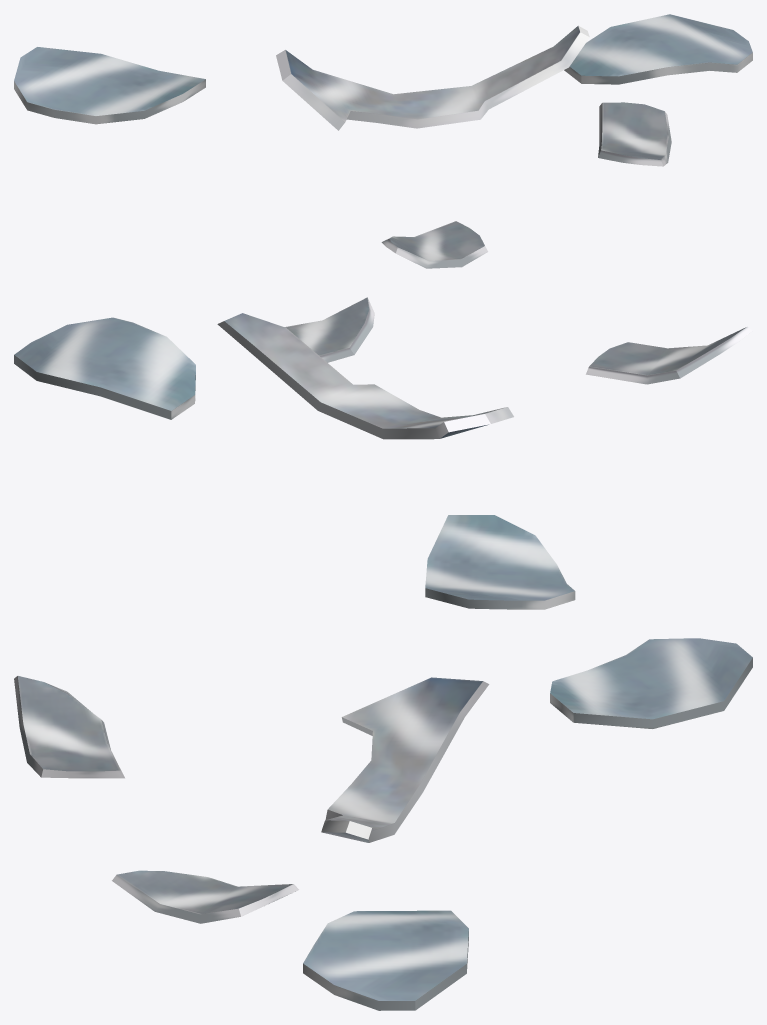
Rendered from CeSuo_01_bolisuipian_01.FBX.
3 renders of one model, top to bottom at view 1: azimuth 30°, elevation 25°; view 2: azimuth 150°, elevation 25°; view 3: azimuth 270°, elevation 25°, orthographic. The views are drawn at different scales.
Visible parts, largest first — view 1: CeSuo_01_bolisuipian_01; view 2: CeSuo_01_bolisuipian_01; view 3: CeSuo_01_bolisuipian_01.
Boxes of the visible parts, bbox=[...] form: CeSuo_01_bolisuipian_01: bbox=[14, 14, 752, 268]; CeSuo_01_bolisuipian_01: bbox=[14, 297, 752, 609]; CeSuo_01_bolisuipian_01: bbox=[14, 638, 752, 1010].
Bounding box in the file's own units: 151 × 17.68 × 132.
